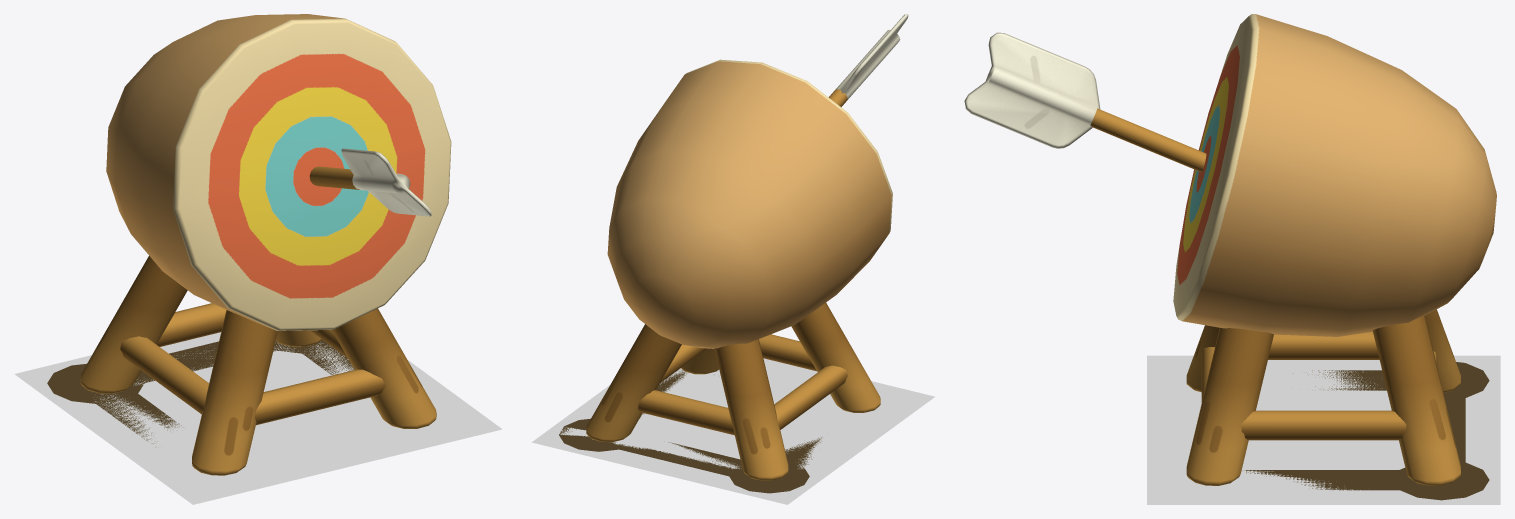
The model's file is VK_Aimboard.fbx.
3 renders of one model, left to right at view 1: azimuth 30°, elevation 25°; view 2: azimuth 150°, elevation 25°; view 3: azimuth 270°, elevation 25°, orthographic. The views are drawn at different scales.
Visible parts, largest first — view 1: polySurface12, polySurface9, Aimboard_Grid, Shadow, polySurface5; view 2: polySurface12, polySurface9, Aimboard_Grid, Shadow, polySurface5; view 3: polySurface12, polySurface9, Aimboard_Grid, polySurface5, Shadow.
Part boxes in pixels (<box>): polySurface12: <box>106,14,451,330</box>; polySurface9: <box>80,256,436,475</box>; Aimboard_Grid: <box>14,332,502,504</box>; Shadow: <box>47,339,354,447</box>; polySurface5: <box>309,148,431,216</box>; polySurface12: <box>607,59,892,348</box>; polySurface9: <box>586,303,880,480</box>; Aimboard_Grid: <box>531,358,934,504</box>; Shadow: <box>559,369,821,493</box>; polySurface5: <box>828,14,908,106</box>; polySurface12: <box>1173,14,1496,336</box>; polySurface9: <box>1186,309,1460,485</box>; Aimboard_Grid: <box>1147,355,1500,504</box>; polySurface5: <box>964,32,1206,172</box>; Shadow: <box>1244,362,1489,500</box>.
Size of the model in its own units: 1 by 1.25 by 1.52.
